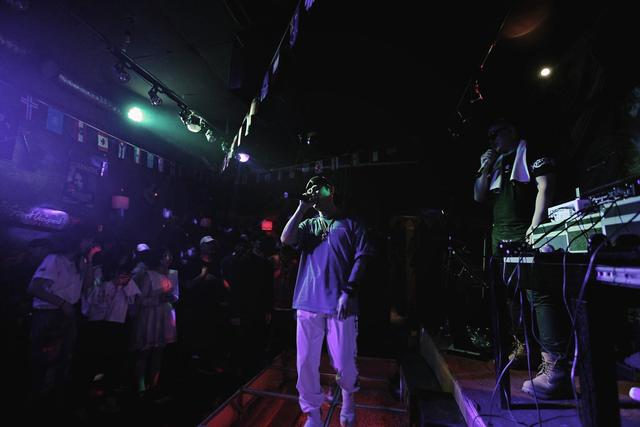handsup: (278, 165, 380, 420)
